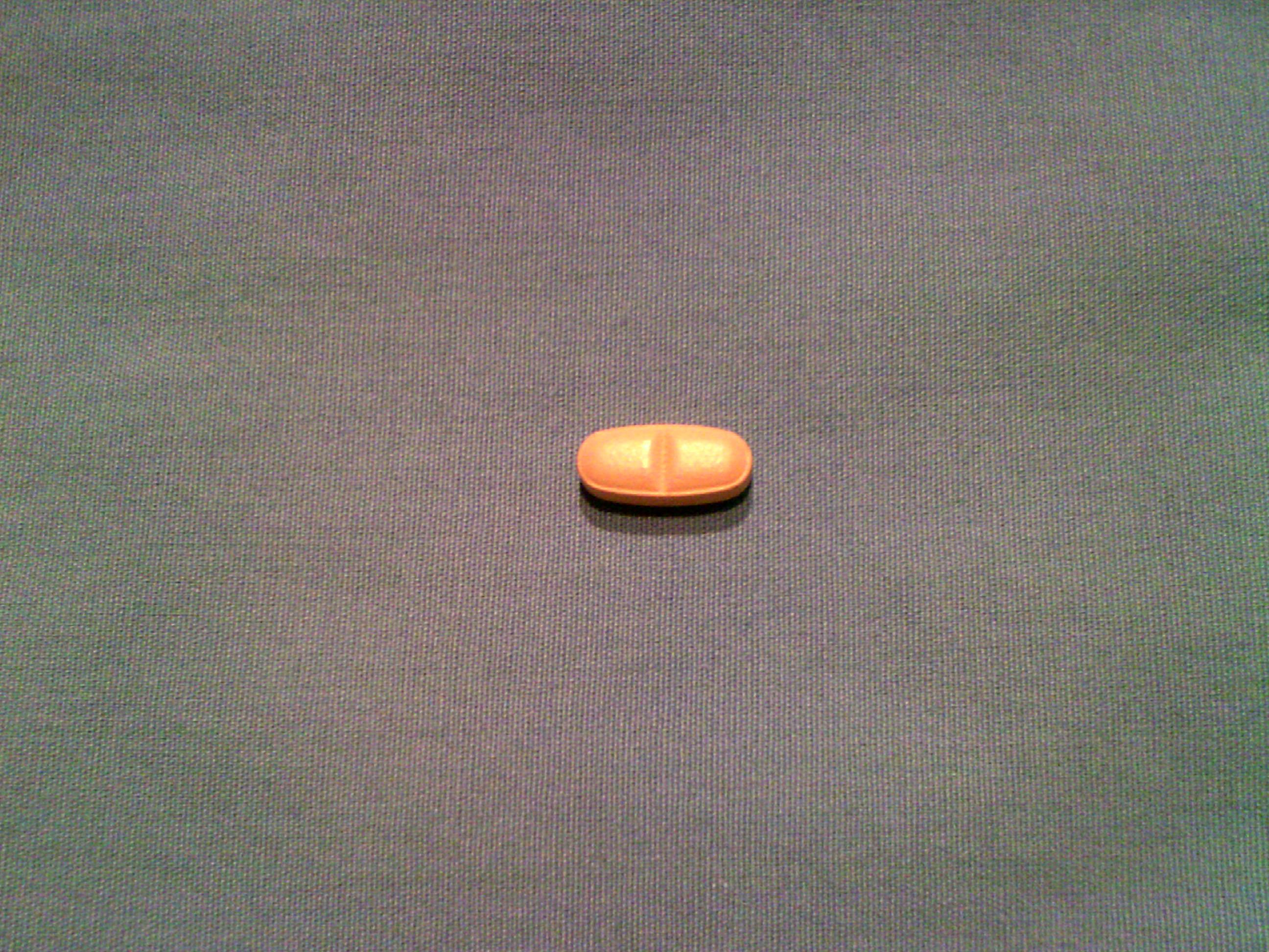Pill: (571, 416, 759, 516)
